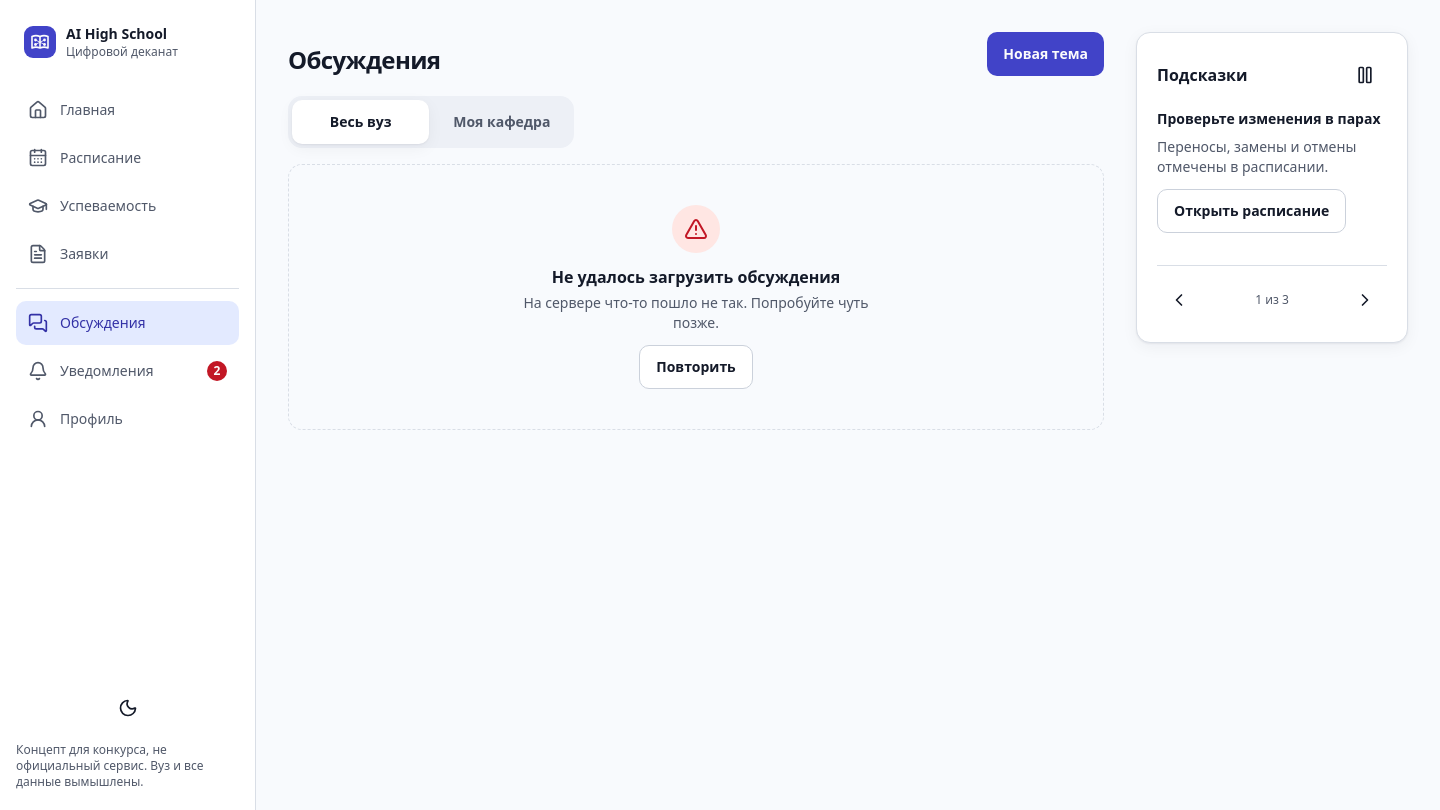
позволяет повторить запрос списка и показывает пустой результат
Step 1. Click the button "Повторить" → [696, 367], box [639,345,753,389]
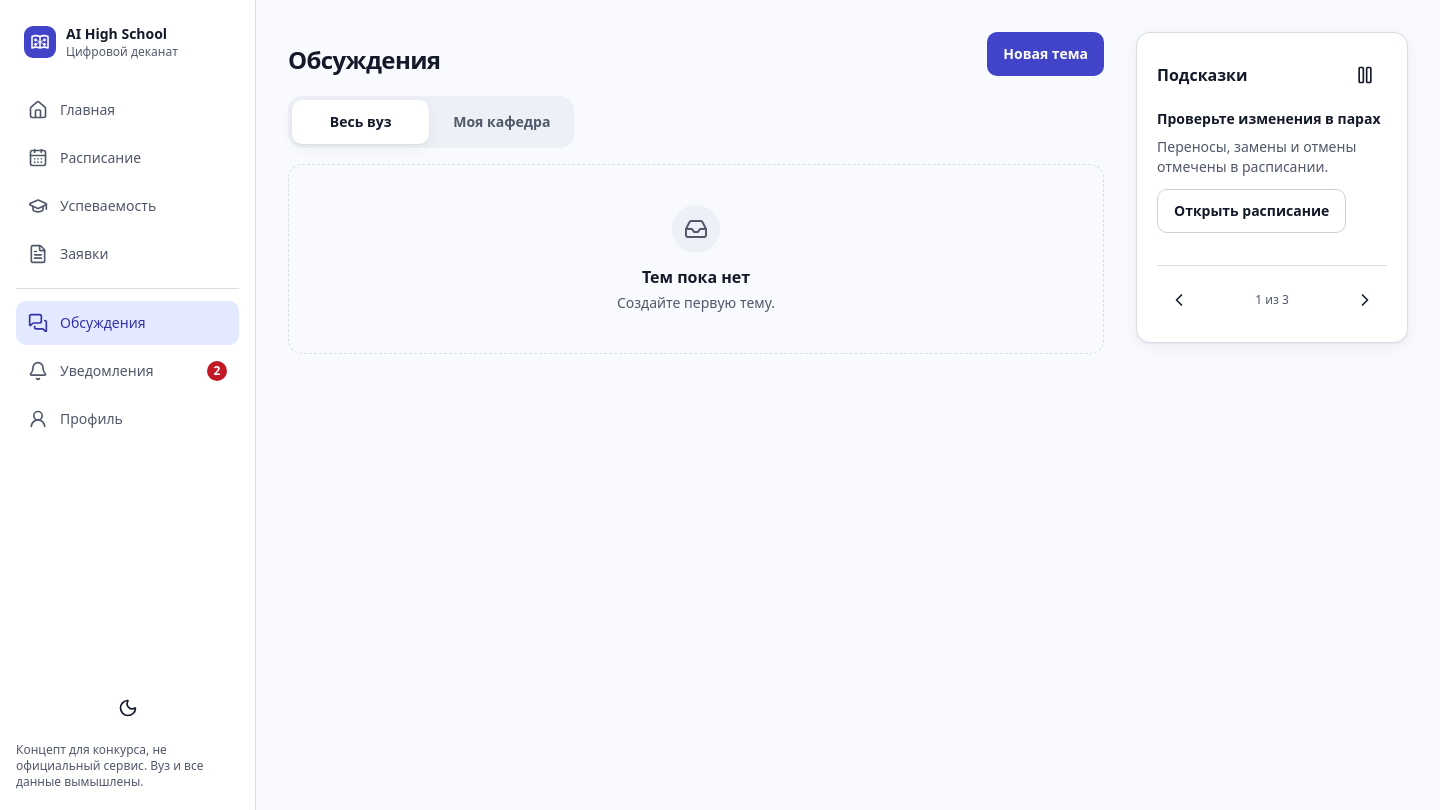
Expected: the text "Тем пока нет" is shown, [642,266,750,288]
